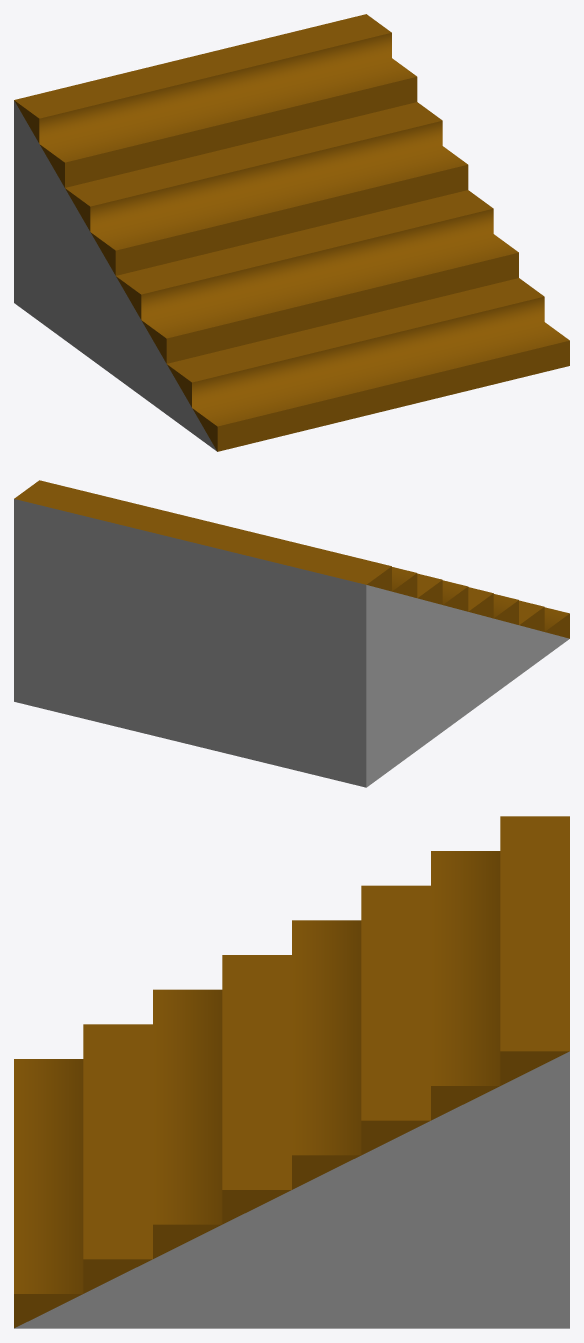
The model's file is Stair_Half_2x2.fbx.
3 views of the same model, one above another, from view 1: azimuth 30°, elevation 25°; view 2: azimuth 150°, elevation 25°; view 3: azimuth 270°, elevation 25° (orthographic). The views are drawn at different scales.
Parts seen in each view (by area): view 1: Stair_Half_2x2; view 2: Stair_Half_2x2; view 3: Stair_Half_2x2.
Part boxes in pixels (left/top/right/bottom): Stair_Half_2x2: left=14, top=14, right=569, bottom=451; Stair_Half_2x2: left=14, top=480, right=569, bottom=787; Stair_Half_2x2: left=14, top=816, right=569, bottom=1328.
Size of the model in its own units: 2 by 1.1 by 2.
